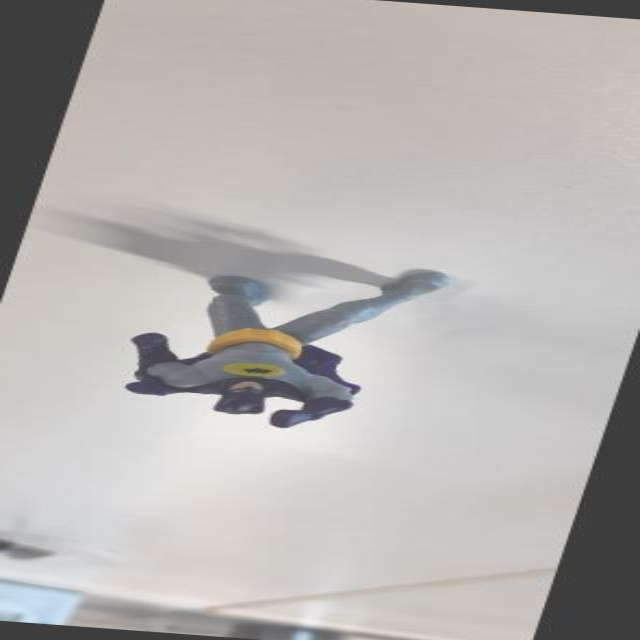Batman: (101, 242, 470, 440)
